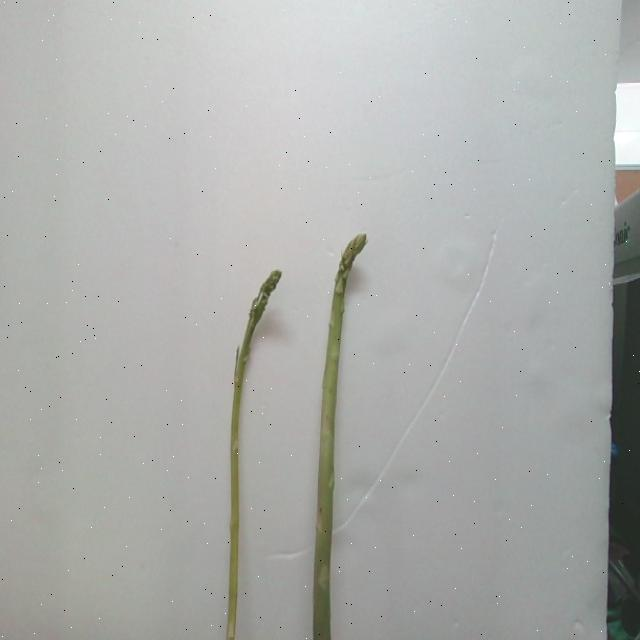aspargus: (311, 235, 366, 640), (223, 271, 281, 640)
